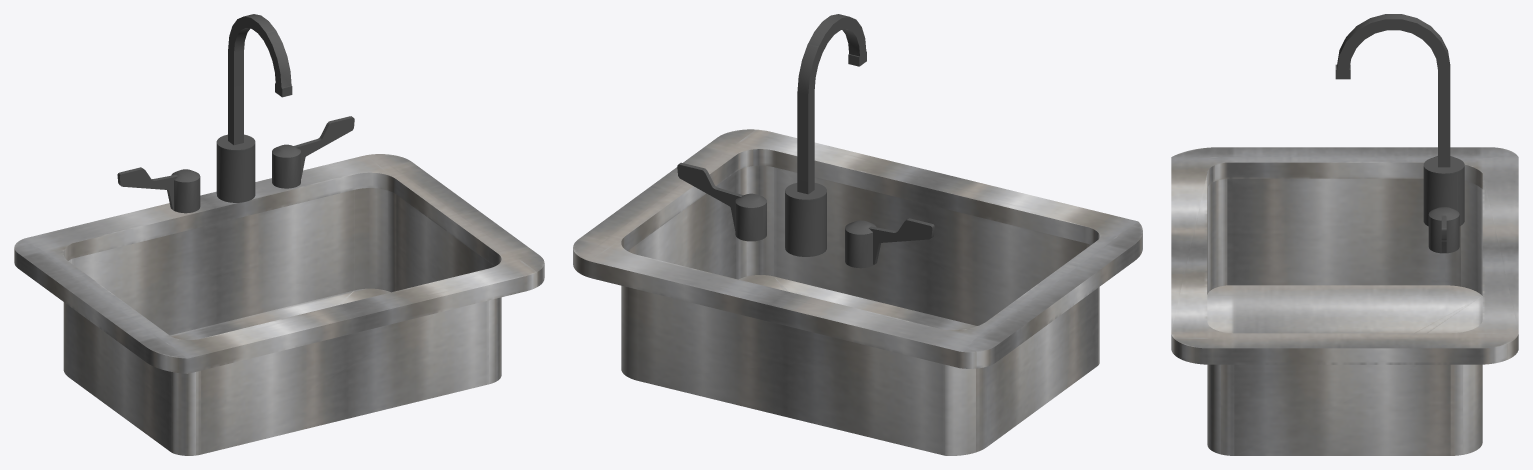
File: utility_sink.glb
3 renders of one model, left to right at view 1: azimuth 30°, elevation 25°; view 2: azimuth 150°, elevation 25°; view 3: azimuth 270°, elevation 25°, orthographic. The views are drawn at different scales.
Parts seen in each view (by area): view 1: mesh; view 2: mesh; view 3: mesh.
Boxes of the visible parts, x1,y1,x2,y2 form: mesh: [14, 14, 544, 455]; mesh: [573, 14, 1142, 455]; mesh: [1171, 14, 1518, 455].
Size of the model in its own units: 0.7535 by 0.62 by 0.55.
Materials: 1 (1 with a texture image).
